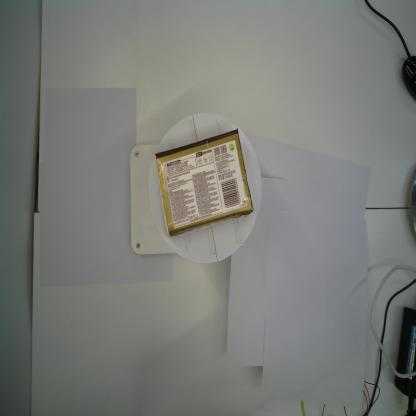Tissue: (154, 127, 254, 237)
